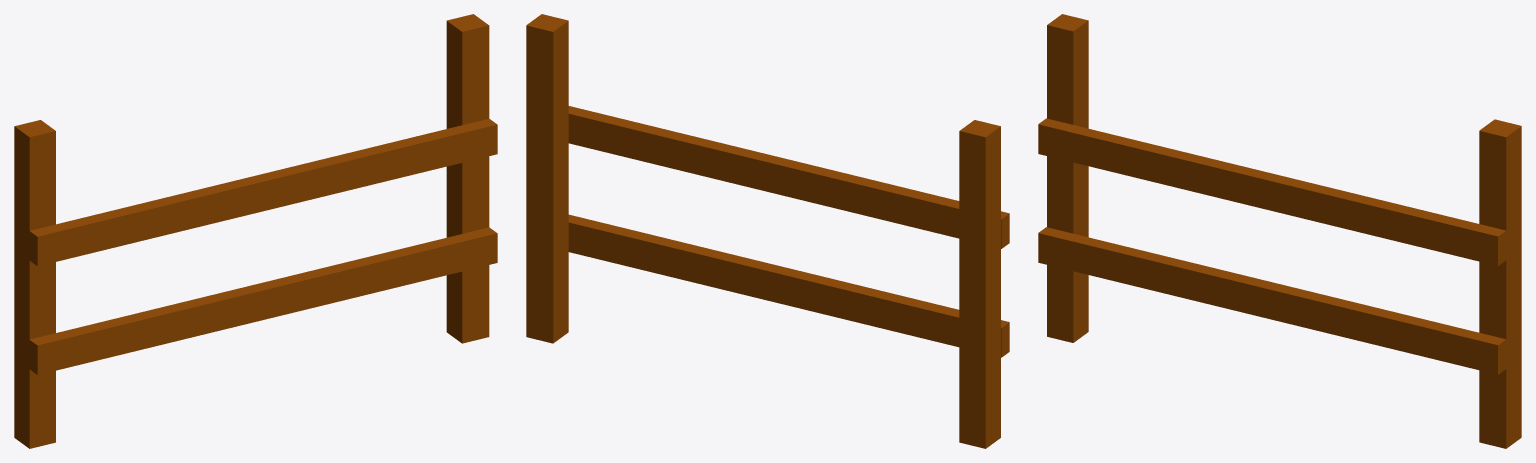
File: baricate3.glb
3 views of the same model, side by side, from view 1: azimuth 30°, elevation 25°; view 2: azimuth 150°, elevation 25°; view 3: azimuth 330°, elevation 25° (orthographic).
Visible parts, largest first — view 1: Cube.001; view 2: Cube.001; view 3: Cube.001.
Part boxes in pixels (x1,y1,x2,y2): Cube.001: [14, 14, 497, 448]; Cube.001: [526, 14, 1009, 448]; Cube.001: [1038, 14, 1521, 448].
Size of the model in its own units: 1.55 by 1 by 0.1388.
